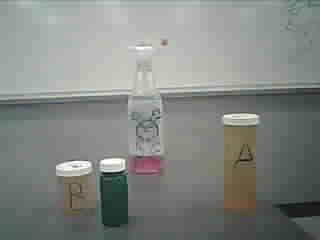Bottle A: (220, 111, 266, 219)
Bottle B: (53, 157, 95, 215)
Bottle C: (98, 153, 131, 230)
hazard: (120, 34, 180, 177)
